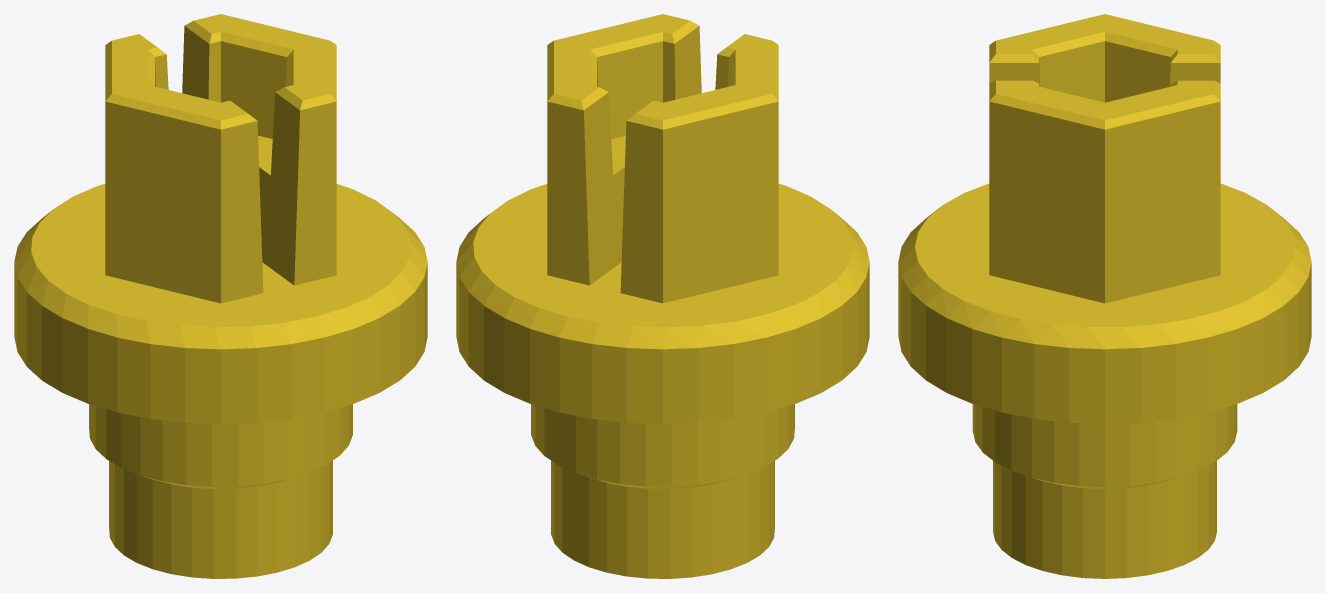
3 renders of one model, left to right at view 1: azimuth 30°, elevation 25°; view 2: azimuth 150°, elevation 25°; view 3: azimuth 270°, elevation 25°, orthographic.
Parts seen in each view (by area): view 1: 10253809; view 2: 10253809; view 3: 10253809.
Boxes of the visible parts, <box> form: 10253809: <box>14,14,427,578</box>; 10253809: <box>456,14,869,578</box>; 10253809: <box>898,14,1311,578</box>.
Bounding box in the file's own units: 0.8065 × 1 × 0.8065.
